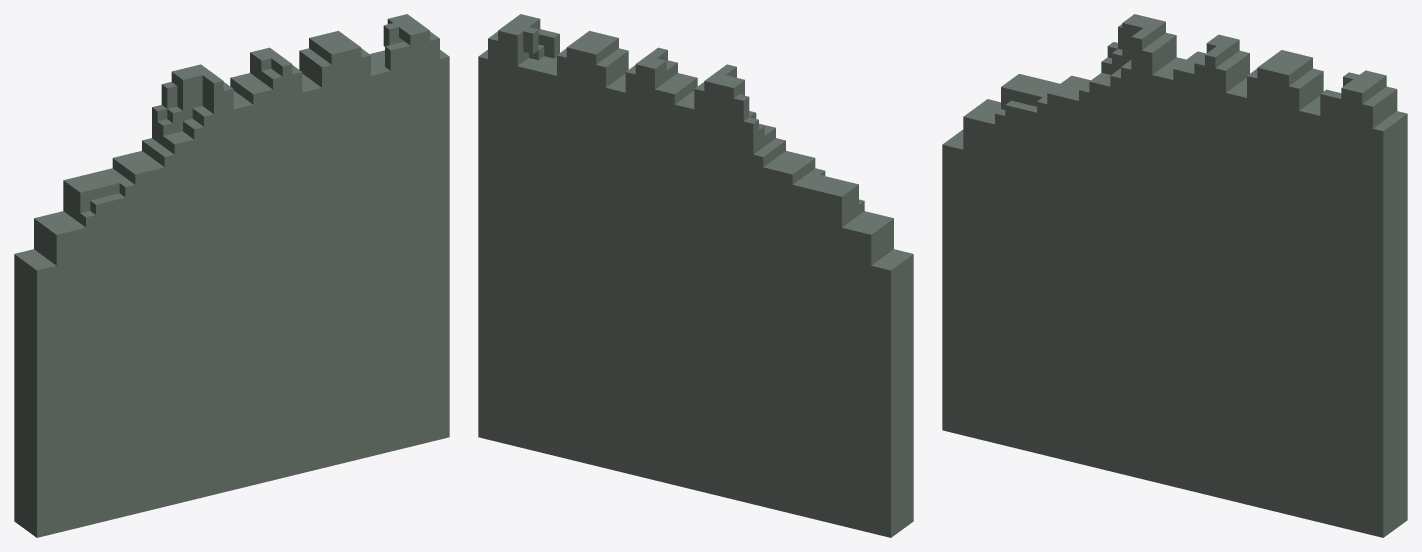
The model's file is broken_castle_wall.glb.
The picture shows the model from 3 angles, left to right: view 1: azimuth 30°, elevation 25°; view 2: azimuth 150°, elevation 25°; view 3: azimuth 330°, elevation 25°; orthographic projection. The views are drawn at different scales.
Parts seen in each view (by area): view 1: Untitled; view 2: Untitled; view 3: Untitled.
Boxes of the visible parts, x1,y1,x2,y2 form: Untitled: [14, 14, 449, 537]; Untitled: [478, 14, 913, 537]; Untitled: [942, 14, 1407, 537].
Size of the model in its own units: 4.2 by 4 by 0.4.
1 material, 1 textured.
